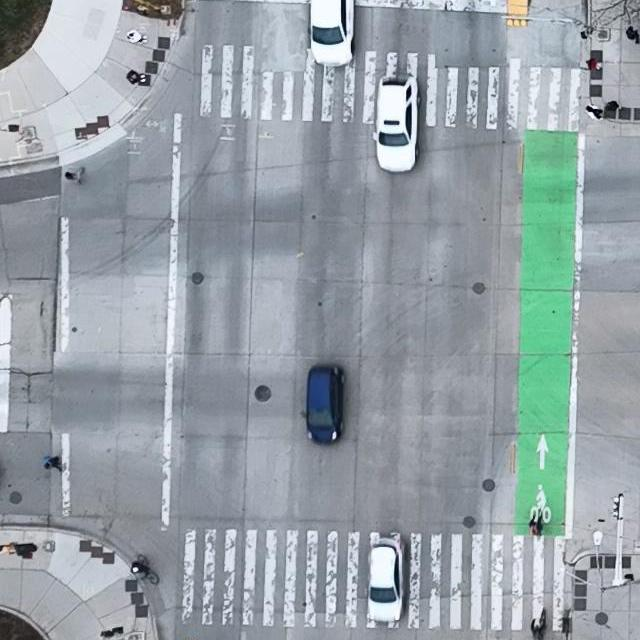car: (372, 75, 422, 172), (300, 365, 346, 445), (365, 539, 406, 622), (306, 0, 356, 67)
